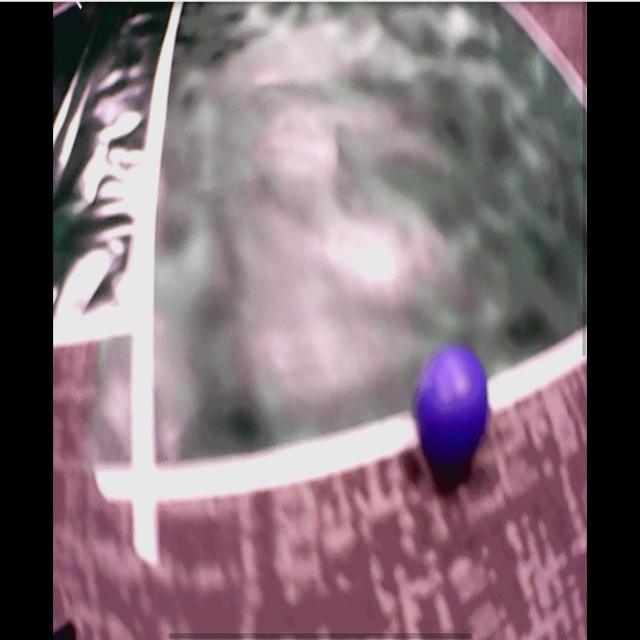ball: (415, 345, 490, 461)
